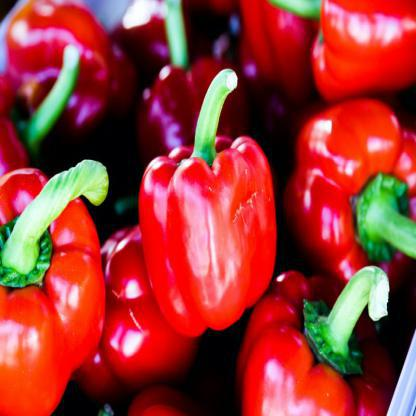capsicum: (124, 60, 284, 332)
